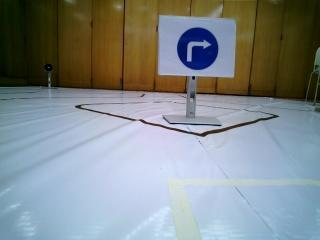right: (160, 15, 237, 78)
